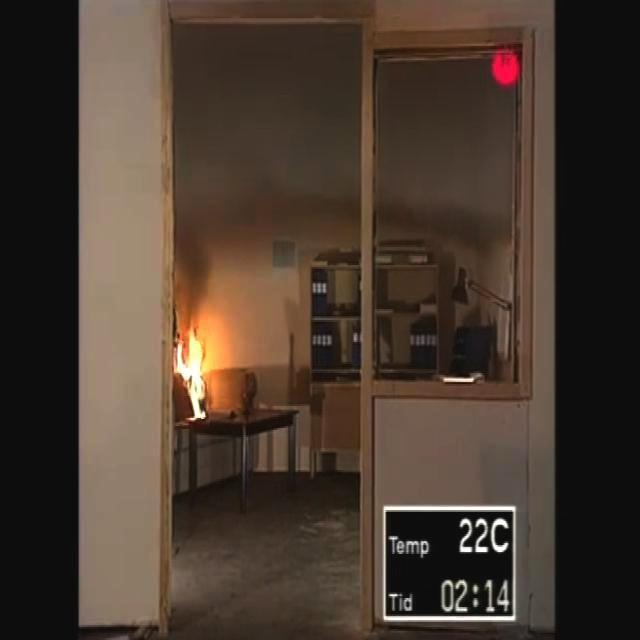fire: (170, 312, 244, 434)
